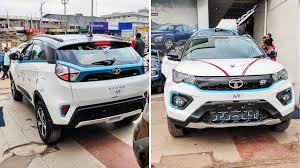Tata Nexon: (9, 32, 149, 146), (164, 33, 295, 140)
